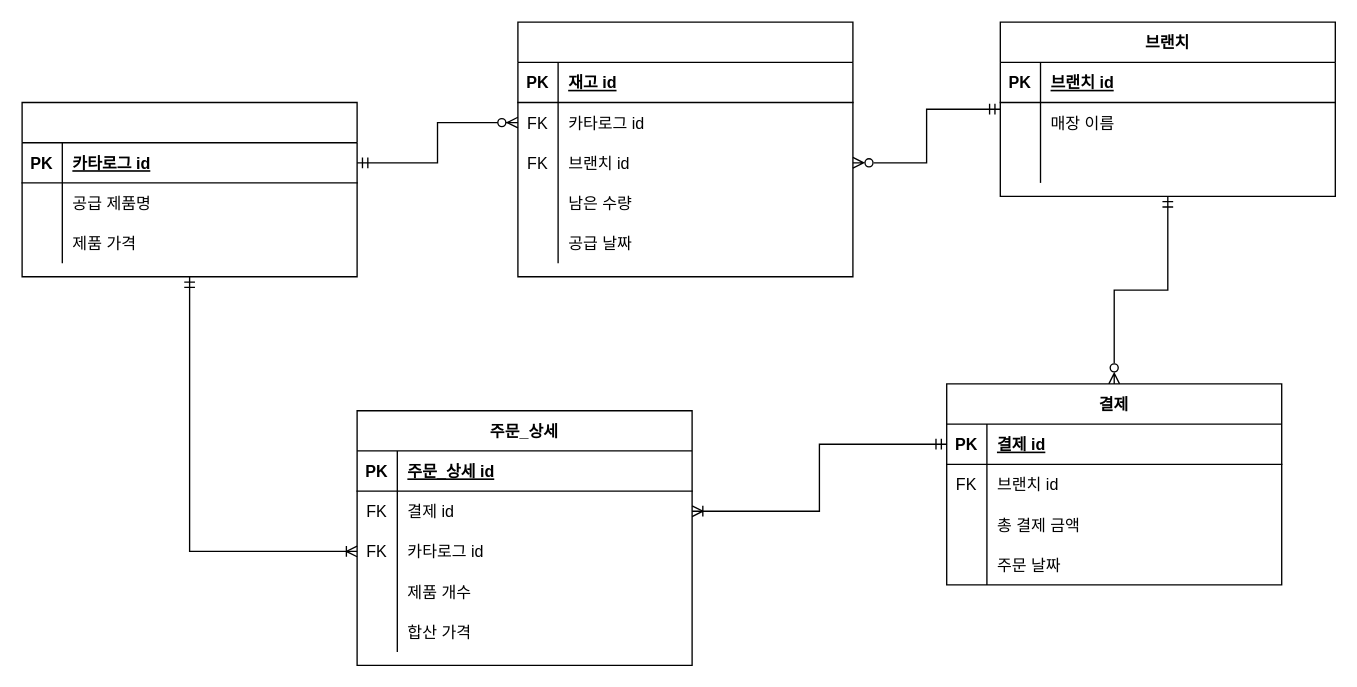
Some shapes in this 1357 by 687 pixel diagram are drawn without their labels. Here are the shapes that lost their labels. From the top down, the box of each, then its label:
(517, 21, 853, 277): 브랜치빵 재고
(21, 101, 357, 277): 제빵 카타로그
